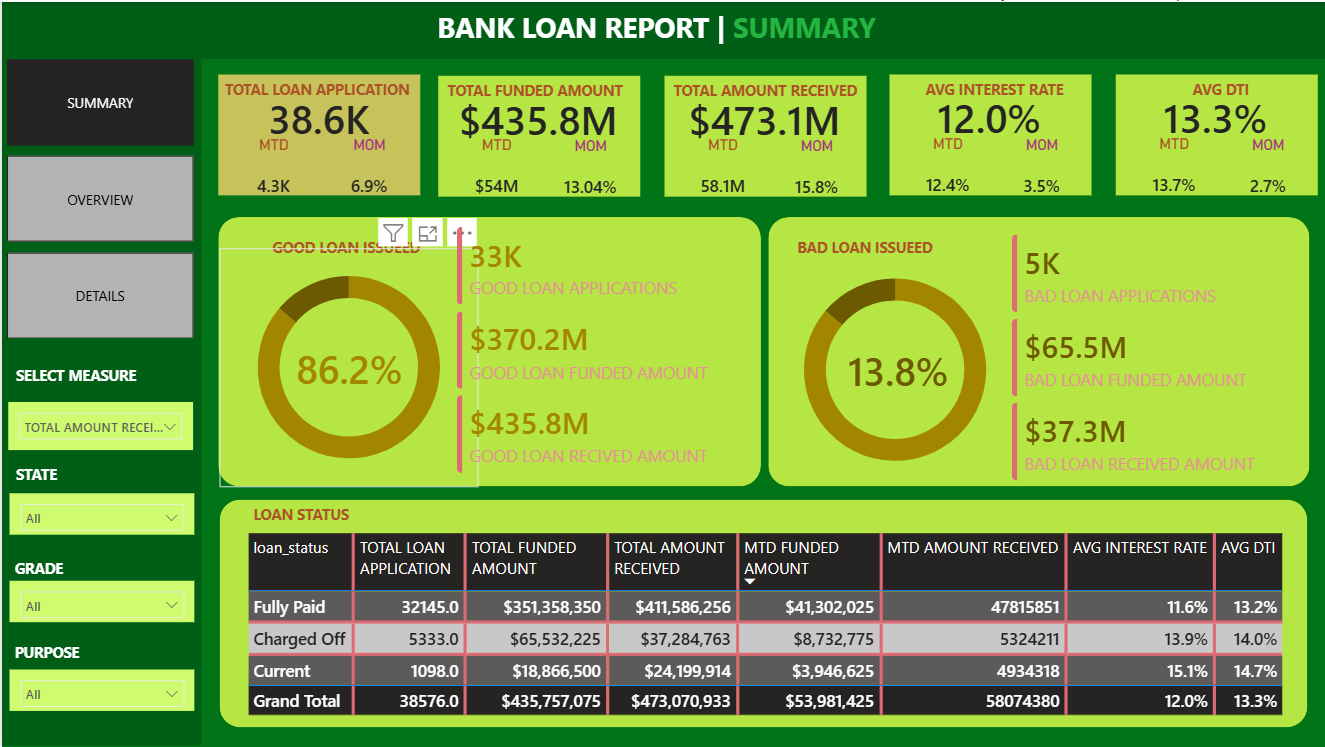

What the dashboard file says about the page in this screenshot:
{"tool":"powerbi","page":{"name":"SUMMARY","canvas":[1280,720],"ordinal":0},"visuals":[{"type":"shape","box":[0,0,1280,55],"z":0},{"type":"shape","box":[0,52.5,192.5,665],"z":1000},{"type":"shape","box":[857.3,70,195,116.7],"z":1000,"group":"g3"},{"type":"shape","box":[1075,70,195,116.7],"z":1000,"group":"g4"},{"type":"shape","box":[421.5,71.7,195,116.7],"z":1000,"group":"g1"},{"type":"shape","box":[639.6,71.7,195,116.7],"z":1000,"group":"g2"},{"type":"shape","box":[208.3,70,195,116.7],"z":2000},{"type":"textbox","box":[415,1.7,450,53.3],"z":3000},{"type":"cardVisual","fields":{"Data":["ALL MEASURE'S.TOTAL APPLICATIONS"]},"box":[228,72.4,156.8,76],"z":4000},{"type":"cardVisual","fields":{"Data":["ALL MEASURE'S.AVG INTEREST RATE"]},"box":[847.3,72.9,212.9,75.7],"z":4000,"group":"g3"},{"type":"cardVisual","fields":{"Data":["ALL MEASURE'S.AVG DTI"]},"box":[1065,72.9,212.9,75.7],"z":4000,"group":"g4"},{"type":"cardVisual","fields":{"Data":["ALL MEASURE'S.TOTL FUNDED AMOUNT"]},"box":[411.5,74.6,212.9,75.7],"z":4000,"group":"g1"},{"type":"cardVisual","fields":{"Data":["ALL MEASURE'S.TOTAL AMOUNT RECEIVED"]},"box":[629.6,74.6,212.9,75.7],"z":4000,"group":"g2"},{"type":"textbox","box":[860.1,70,195.6,28.9],"z":5000,"group":"g3"},{"type":"textbox","box":[1077.8,70,195.6,28.9],"z":5000,"group":"g4"},{"type":"group","id":"g1","title":"Group 2","box":[411.5,71.7,213.3,135],"z":5000},{"type":"textbox","box":[424.3,71.7,195.6,28.9],"z":5000,"group":"g1"},{"type":"textbox","box":[642.4,71.7,195.6,28.9],"z":5000,"group":"g2"},{"type":"cardVisual","title":"MTD","fields":{"Data":["ALL MEASURE'S.MTD INTEREST RATE"]},"box":[869,128.3,88.3,76.7],"z":6000,"group":"g3"},{"type":"cardVisual","title":"MTD","fields":{"Data":["ALL MEASURE'S.MTD AVG DTI"]},"box":[1086.7,128.3,88.3,76.7],"z":6000,"group":"g4"},{"type":"cardVisual","title":"MTD","fields":{"Data":["ALL MEASURE'S.MTD FUNDED AMOUNT"]},"box":[433.2,130,88.3,76.7],"z":6000,"group":"g1"},{"type":"cardVisual","title":"MTD","fields":{"Data":["ALL MEASURE'S.MTD AMOUNT RECEIVED"]},"box":[651.3,130,88.3,76.7],"z":6000,"group":"g2"},{"type":"shape","box":[208.8,207.5,523.8,260],"z":6000},{"type":"textbox","box":[256.2,222.5,197.5,30],"z":7000},{"type":"group","id":"g2","title":"Group 2","box":[629.6,71.7,212.9,135.6],"z":8000},{"type":"cardVisual","title":"MOM","fields":{"Data":["ALL MEASURE'S.MOM AVG INTEREST RATE"]},"box":[954.5,128.9,98.9,76.7],"z":8000,"group":"g3"},{"type":"cardVisual","title":"MOM","fields":{"Data":["ALL MEASURE'S.MOM AVG DTI"]},"box":[1172.2,128.9,98.9,76.7],"z":8000,"group":"g4"},{"type":"cardVisual","title":"MOM","fields":{"Data":["ALL MEASURE'S.MOM FUNDED AMOUNT"]},"box":[518.7,130.6,98.9,76.7],"z":8000,"group":"g1"},{"type":"cardVisual","title":"MOM","fields":{"Data":["ALL MEASURE'S.MOM AMOUNT RECEIVED"]},"box":[736.8,130.6,98.9,76.7],"z":8000,"group":"g2"},{"type":"group","id":"g3","title":"Group 2","box":[847.3,70,212.9,135.6],"z":9000},{"type":"cardVisual","title":"MOM","fields":{"Data":["ALL MEASURE'S.MOM LOAN APPLICATIONS"]},"box":[305.6,128.9,98.9,76.7],"z":10000},{"type":"cardVisual","title":"MTD","fields":{"Data":["ALL MEASURE'S.MTD LOAN APPLICATION"]},"box":[218.9,128.9,87.8,76.7],"z":11000},{"type":"donutChart","fields":{"Category":["BANK_LOAN_DATA.GOOD v BAD LOAN"],"Y":["ALL MEASURE'S.TOTAL APPLICATIONS"]},"box":[210,237.5,250,230],"z":12000},{"type":"cardVisual","fields":{"Data":["ALL MEASURE'S.GOOD LOAN PERCENTAGE"]},"box":[235,315,200,75],"z":13000},{"type":"group","id":"g4","title":"Group 2","box":[1065,70,213.3,135],"z":14000},{"type":"shape","box":[740,207.5,522.5,260],"z":15000},{"type":"textbox","box":[210,70,197.5,30],"z":16000},{"type":"cardVisual","fields":{"Data":["ALL MEASURE'S.GOOD LOAN APPLICATIONS","ALL MEASURE'S.GOOD LOAN FUNDED AMOUNT","ALL MEASURE'S.GOOD LOAN RECIVED AMOUNT"]},"box":[422.5,200,302.5,272.5],"z":17000},{"type":"donutChart","fields":{"Category":["BANK_LOAN_DATA.GOOD v BAD LOAN"],"Y":["ALL MEASURE'S.TOTAL APPLICATIONS"]},"box":[737.5,240,250,230],"z":18000},{"type":"textbox","box":[762.5,222.5,197.5,30],"z":19000},{"type":"shape","box":[210,480,1050,220],"z":20000},{"type":"cardVisual","fields":{"Data":["ALL MEASURE'S.BAD LOAN PERCENTAGE"]},"box":[765,317.5,200,75],"z":21000},{"type":"cardVisual","fields":{"Data":["ALL MEASURE'S.BAD LOAN APPLICATIONS","ALL MEASURE'S.BAD LOAN FUNDED AMOUNT","ALL MEASURE'S.BAD LOAN RECEIVED AMOUNT"]},"box":[957.5,207.5,302.5,272.5],"z":22000},{"type":"tableEx","fields":{"Values":["BANK_LOAN_DATA.loan_status","ALL MEASURE'S.TOTAL LOAN APPLICATIONS","ALL MEASURE'S.TOTAL FUNDED AMOUNT","ALL MEASURE'S.TOTAL AMOUNT RECEIVED","ALL MEASURE'S.MTD FUNDED AMOUNT","ALL MEASURE'S.MTD AMOUNT RECEIVED","ALL MEASURE'S.AVG INTEREST RATE","ALL MEASURE'S.AVG DTI"]},"box":[232,508,1048,210],"z":23000},{"type":"textbox","box":[237.1,479.9,197.6,29.4],"z":24000},{"type":"slicer","fields":{"Values":["BANK_LOAN_DATA.address_state"]},"box":[7.1,473.6,178.3,40],"z":25000},{"type":"textbox","box":[8.8,442,196.7,30],"z":26000},{"type":"slicer","fields":{"Values":["BANK_LOAN_DATA.grade"]},"box":[7.1,559,178.6,40],"z":26001},{"type":"textbox","box":[7.1,531.9,197.1,30],"z":26002},{"type":"slicer","fields":{"Values":["BANK_LOAN_DATA.purpose"]},"box":[7.1,644.3,178.6,40],"z":26003},{"type":"textbox","box":[7.1,612.9,197.1,30],"z":26004}]}

Visuals, with their boxes in screenshot pixels (x1, y1, x2, y2), scaled from the page's 1280x720 canvas onto the 1325x747 screenshot:
shape: Rect(0, 0, 1324, 57)
shape: Rect(0, 54, 199, 744)
shape: Rect(887, 73, 1089, 194)
shape: Rect(1113, 73, 1315, 194)
shape: Rect(436, 74, 638, 195)
shape: Rect(662, 74, 864, 195)
shape: Rect(216, 73, 417, 194)
textbox: Rect(430, 2, 895, 57)
cardVisual - ALL MEASURE'S.TOTAL APPLICATIONS: Rect(236, 75, 398, 154)
cardVisual - ALL MEASURE'S.AVG INTEREST RATE: Rect(877, 76, 1097, 154)
cardVisual - ALL MEASURE'S.AVG DTI: Rect(1102, 76, 1323, 154)
cardVisual - ALL MEASURE'S.TOTL FUNDED AMOUNT: Rect(426, 77, 646, 156)
cardVisual - ALL MEASURE'S.TOTAL AMOUNT RECEIVED: Rect(652, 77, 872, 156)
textbox: Rect(890, 73, 1093, 103)
textbox: Rect(1116, 73, 1318, 103)
"Group 2" group: Rect(426, 74, 647, 214)
textbox: Rect(439, 74, 642, 104)
textbox: Rect(665, 74, 867, 104)
"MTD" cardVisual: Rect(900, 133, 991, 213)
"MTD" cardVisual: Rect(1125, 133, 1216, 213)
"MTD" cardVisual: Rect(448, 135, 540, 214)
"MTD" cardVisual: Rect(674, 135, 766, 214)
shape: Rect(216, 215, 758, 485)
textbox: Rect(265, 231, 470, 262)
"Group 2" group: Rect(652, 74, 872, 215)
"MOM" cardVisual: Rect(988, 134, 1090, 213)
"MOM" cardVisual: Rect(1213, 134, 1316, 213)
"MOM" cardVisual: Rect(537, 135, 639, 215)
"MOM" cardVisual: Rect(763, 135, 865, 215)
"Group 2" group: Rect(877, 73, 1097, 213)
"MOM" cardVisual: Rect(316, 134, 419, 213)
"MTD" cardVisual: Rect(227, 134, 317, 213)
donutChart - BANK_LOAN_DATA.GOOD v BAD LOAN x ALL MEASURE'S.TOTAL APPLICATIONS: Rect(217, 246, 476, 485)
cardVisual - ALL MEASURE'S.GOOD LOAN PERCENTAGE: Rect(243, 327, 450, 405)
"Group 2" group: Rect(1102, 73, 1323, 213)
shape: Rect(766, 215, 1307, 485)
textbox: Rect(217, 73, 422, 104)
cardVisual - ALL MEASURE'S.GOOD LOAN APPLICATIONS x ALL MEASURE'S.GOOD LOAN FUNDED AMOUNT: Rect(437, 208, 750, 490)
donutChart - BANK_LOAN_DATA.GOOD v BAD LOAN x ALL MEASURE'S.TOTAL APPLICATIONS: Rect(763, 249, 1022, 488)
textbox: Rect(789, 231, 994, 262)
shape: Rect(217, 498, 1304, 726)
cardVisual - ALL MEASURE'S.BAD LOAN PERCENTAGE: Rect(792, 329, 999, 407)
cardVisual - ALL MEASURE'S.BAD LOAN APPLICATIONS x ALL MEASURE'S.BAD LOAN FUNDED AMOUNT: Rect(991, 215, 1304, 498)
tableEx - BANK_LOAN_DATA.loan_status x ALL MEASURE'S.TOTAL LOAN APPLICATIONS: Rect(240, 527, 1324, 745)
textbox: Rect(245, 498, 450, 528)
slicer - BANK_LOAN_DATA.address_state: Rect(7, 491, 192, 533)
textbox: Rect(9, 459, 213, 490)
slicer - BANK_LOAN_DATA.grade: Rect(7, 580, 192, 621)
textbox: Rect(7, 552, 211, 583)
slicer - BANK_LOAN_DATA.purpose: Rect(7, 668, 192, 710)
textbox: Rect(7, 636, 211, 667)
